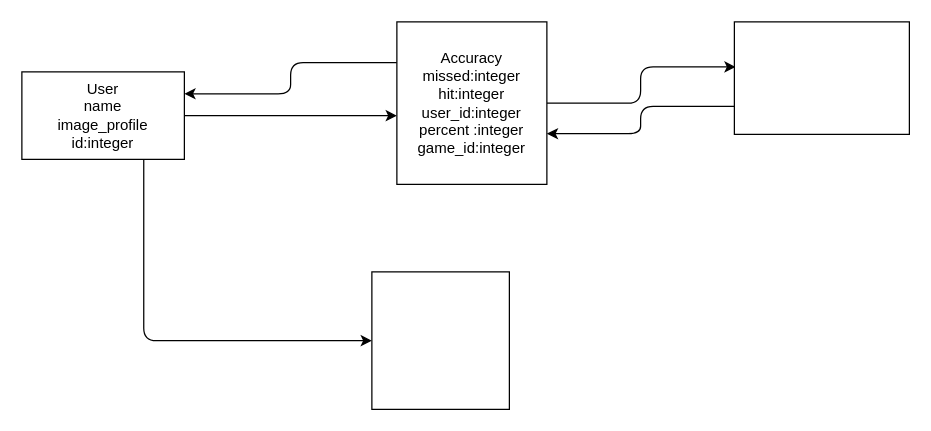
This 931x431 diagram has some shape labels left out. Here are the shapes that lost their labels. From the top down, the centre of each, then its label:
At (x=821, y=77): "Game name description id:integer".
At (x=440, y=340): "Forum comment user_id:integer".
